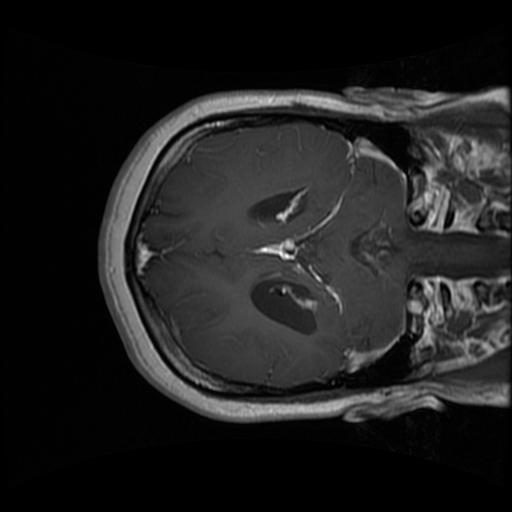glioma: (247, 276, 316, 333)
